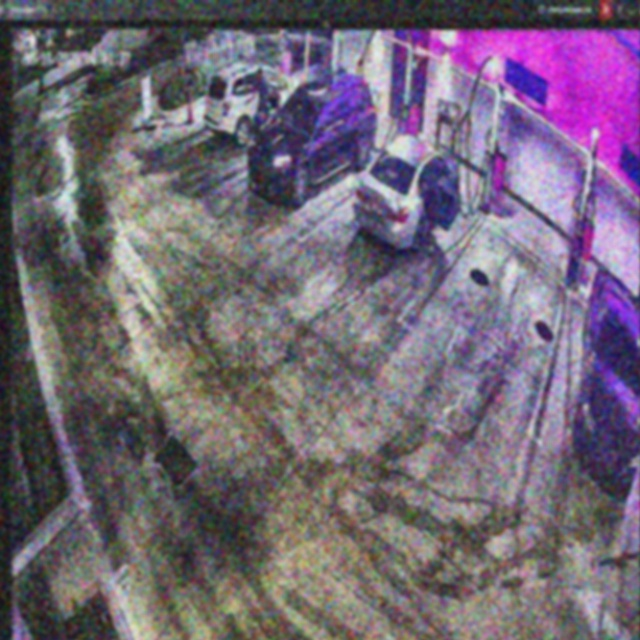Car: (249, 69, 375, 210), (355, 136, 460, 252), (205, 61, 300, 145)
